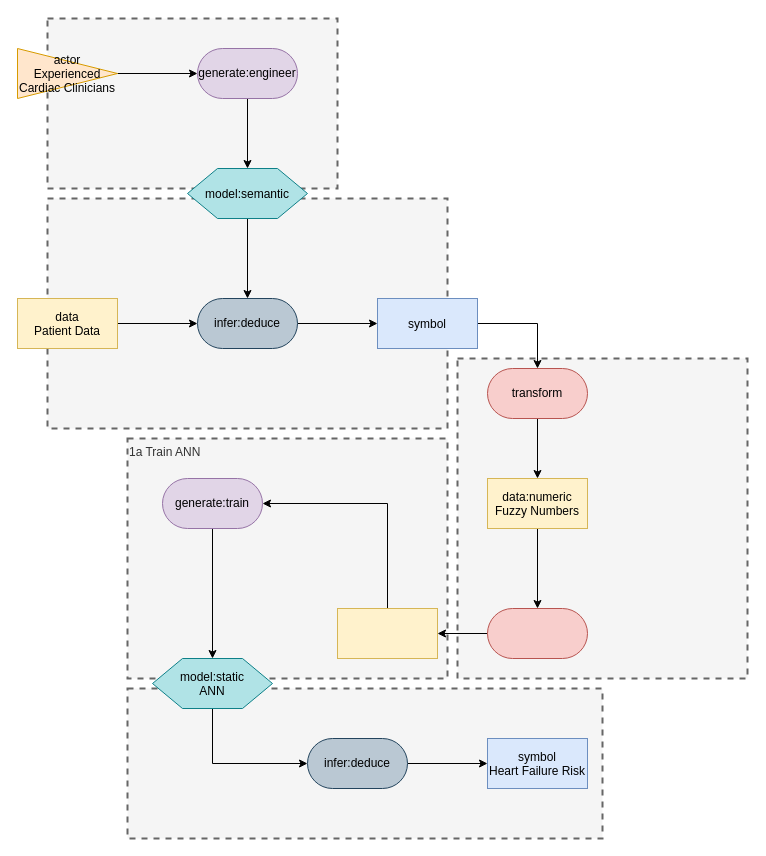
This 766x856 diagram has some shape labels left out. The box of each missing label's shape, as (x1, y1, x2, y2) in pixels:
1c Expert Knowledge: (46, 17, 338, 189)
1d Fuzzy Analytic Hierarchy: (456, 357, 748, 679)
2a Pairwise Comparison: (46, 197, 448, 429)
2b Predict: (126, 687, 603, 839)
data:numeric Local and Global Weights + Patient Data: (336, 608, 438, 658)
transform:embed: (486, 608, 588, 658)
